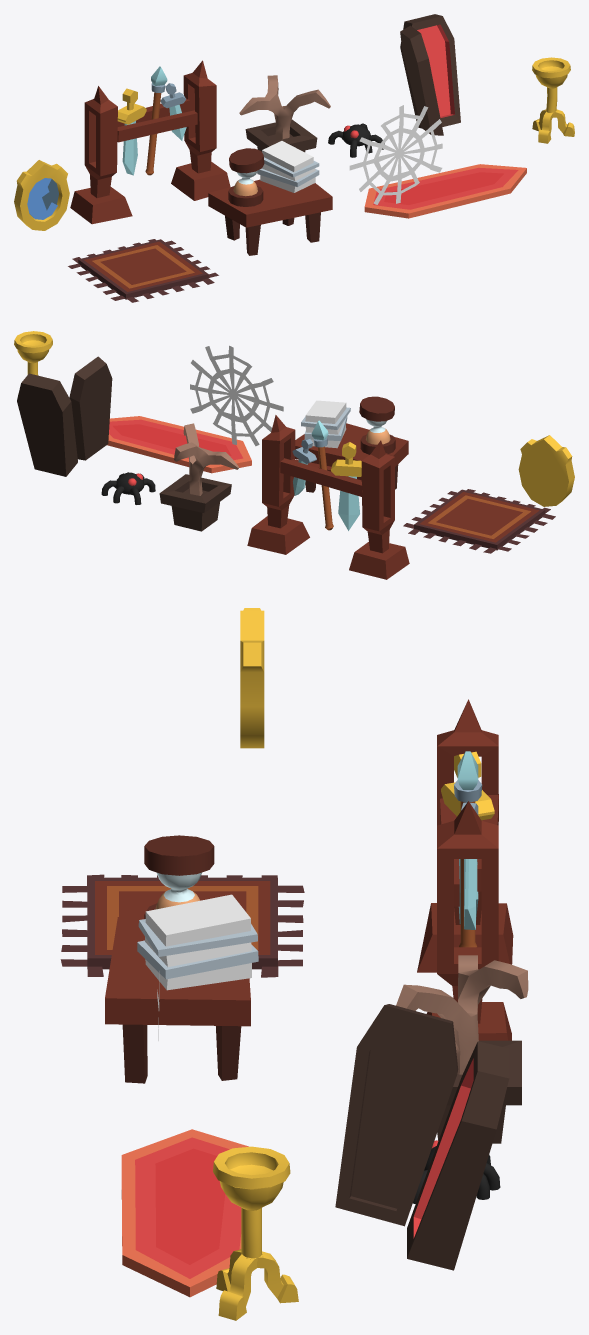
File: CastleDecorationMeshes.fbx
3 renders of one model, top to bottom at view 1: azimuth 30°, elevation 25°; view 2: azimuth 150°, elevation 25°; view 3: azimuth 270°, elevation 25°, orthographic. The views are drawn at different scales.
Visible parts, largest first — view 1: SwordHolder, Carpet_Square, Coffin, Carpet_Long, TableLong, SpiderWeb, Mirror, PlantSpiky, Papers, StandingTorch, Hourglass, SpiderSmall; view 2: SwordHolder, Coffin, Carpet_Square, PlantSpiky, Carpet_Long, SpiderWeb, Mirror, TableLong, Hourglass, Papers, StandingTorch, SpiderSmall; view 3: Coffin, SwordHolder, Carpet_Long, TableLong, Carpet_Square, Papers, StandingTorch, PlantSpiky, Hourglass, Mirror.
Part boxes in pixels (bbox=[...]): SwordHolder: bbox=[70, 60, 230, 224]; Carpet_Square: bbox=[68, 239, 218, 302]; Coffin: bbox=[400, 14, 460, 135]; Carpet_Long: bbox=[364, 164, 526, 218]; TableLong: bbox=[208, 179, 332, 255]; SpiderWeb: bbox=[349, 105, 442, 204]; Mirror: bbox=[14, 160, 69, 230]; PlantSpiky: bbox=[239, 75, 330, 152]; Papers: bbox=[257, 141, 319, 192]; StandingTorch: bbox=[532, 57, 574, 143]; Hourglass: bbox=[228, 148, 264, 206]; SpiderSmall: bbox=[328, 123, 384, 157]; SwordHolder: bbox=[247, 415, 409, 579]; Coffin: bbox=[17, 356, 112, 476]; Carpet_Square: bbox=[403, 489, 555, 553]; PlantSpiky: bbox=[159, 423, 239, 531]; Carpet_Long: bbox=[107, 416, 251, 473]; SpiderWeb: bbox=[190, 345, 283, 446]; Mirror: bbox=[518, 435, 574, 506]; TableLong: bbox=[295, 423, 408, 492]; Hourglass: bbox=[359, 396, 395, 454]; Papers: bbox=[301, 400, 350, 448]; StandingTorch: bbox=[14, 331, 52, 375]; SpiderSmall: bbox=[101, 472, 155, 504]; Coffin: bbox=[335, 1004, 509, 1270]; SwordHolder: bbox=[417, 699, 513, 1040]; Carpet_Long: bbox=[121, 1129, 248, 1297]; TableLong: bbox=[105, 915, 250, 1083]; Carpet_Square: bbox=[60, 874, 304, 977]; Papers: bbox=[137, 894, 258, 990]; StandingTorch: bbox=[213, 1146, 298, 1320]; PlantSpiky: bbox=[396, 955, 528, 1143]; Hourglass: bbox=[144, 835, 214, 918]; Mirror: bbox=[240, 608, 264, 748].
Bounding box in the file's own units: 2140 × 487 × 782.
